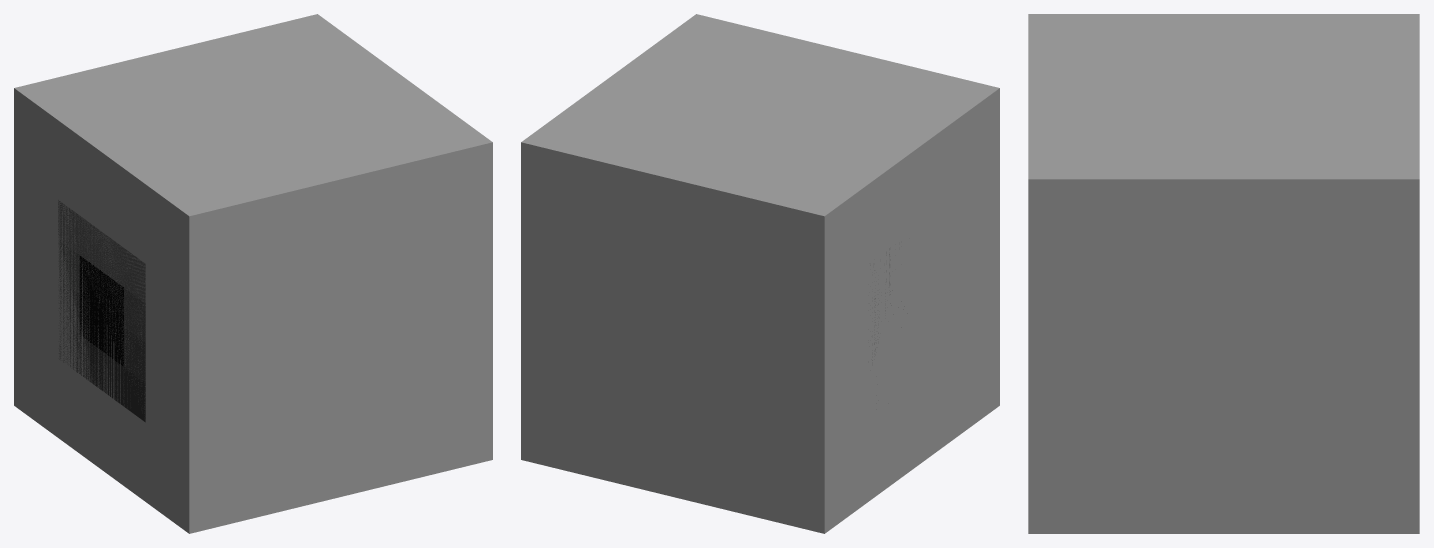
Rendered from WallClock.obj.
3 renders of one model, left to right at view 1: azimuth 30°, elevation 25°; view 2: azimuth 150°, elevation 25°; view 3: azimuth 270°, elevation 25°, orthographic. The views are drawn at different scales.
Visible parts, largest first — view 1: Minecraft_Block_Cube, Minecraft_2_Edge_Connectivity_Cube.002, base; view 2: Minecraft_Block_Cube, Minecraft_2_Edge_Connectivity_Cube.002; view 3: Minecraft_Block_Cube.
Boxes of the visible parts, x1,y1,x2,y2 form: Minecraft_Block_Cube: (14, 14, 492, 533); Minecraft_2_Edge_Connectivity_Cube.002: (14, 88, 340, 533); base: (58, 200, 145, 422); Minecraft_Block_Cube: (521, 14, 999, 533); Minecraft_2_Edge_Connectivity_Cube.002: (673, 88, 999, 533); Minecraft_Block_Cube: (1028, 14, 1419, 533).
Size of the model in its own units: 1 by 1 by 1.
Materials: 2 (1 with a texture image).
